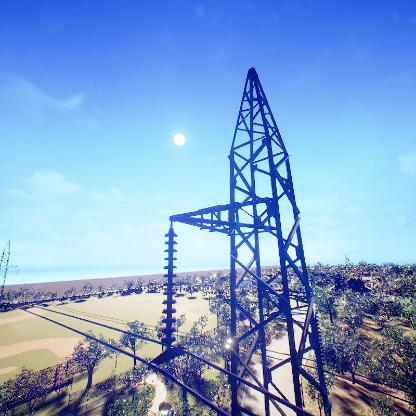insulator: (160, 229, 179, 347)
